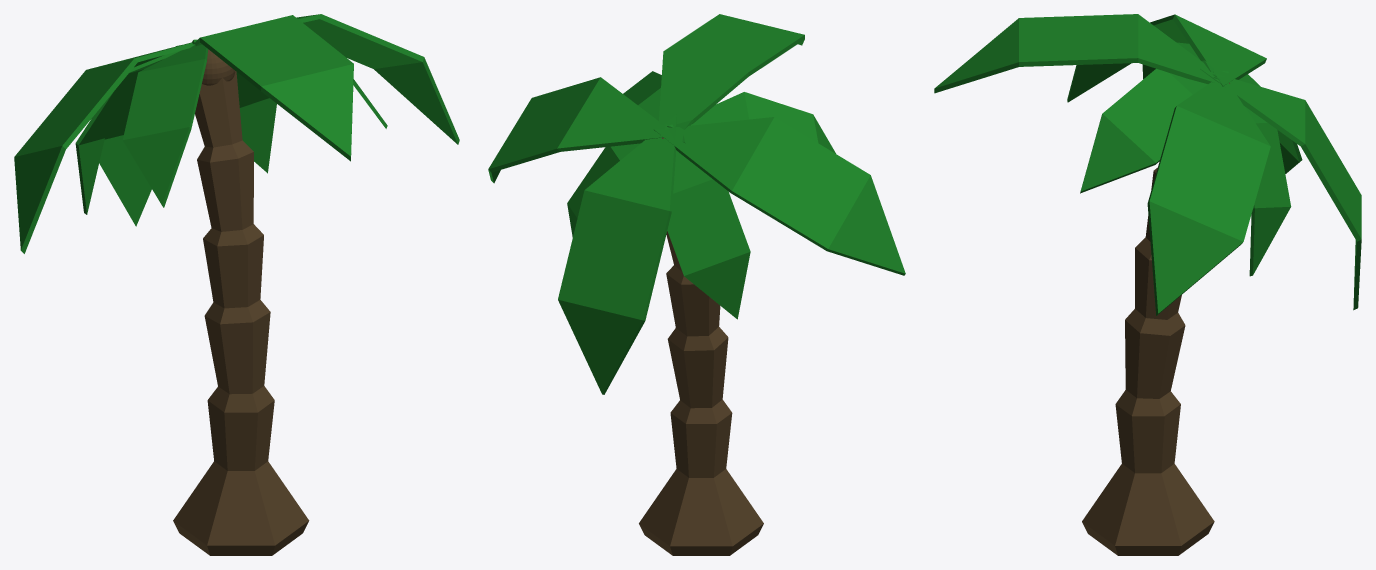
The model's file is palmtree.fbx.
3 views of the same model, side by side, from view 1: azimuth 30°, elevation 25°; view 2: azimuth 150°, elevation 25°; view 3: azimuth 270°, elevation 25° (orthographic). The views are drawn at different scales.
Visible parts, largest first — view 1: trunk; view 2: trunk; view 3: trunk.
Part boxes in pixels (left/top/right/bottom): trunk: left=14, top=14, right=459, bottom=555; trunk: left=488, top=14, right=905, bottom=555; trunk: left=934, top=14, right=1361, bottom=555.
Bounding box in the file's own units: 508 × 557 × 433.
